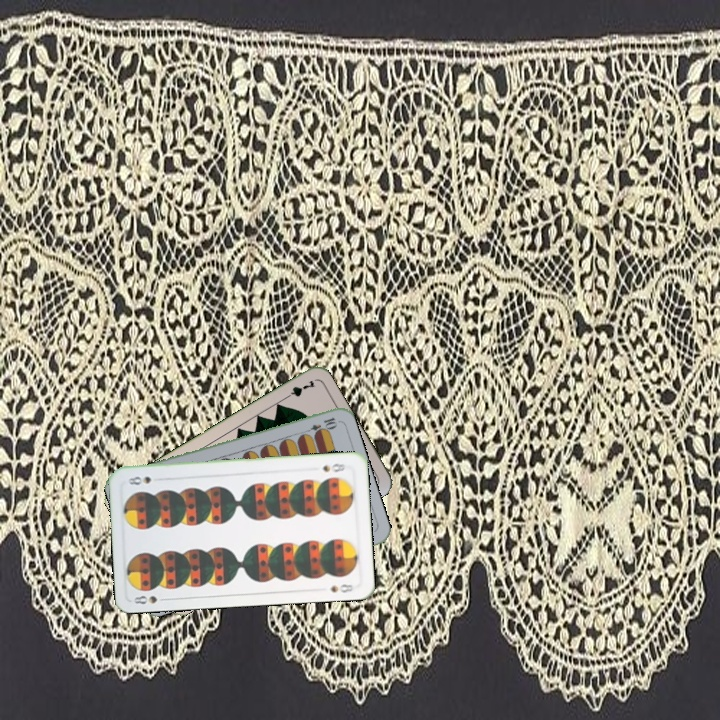E10: (300, 413, 340, 437)
G7: (279, 376, 318, 402)
S8: (130, 592, 170, 606), (319, 459, 348, 475)
